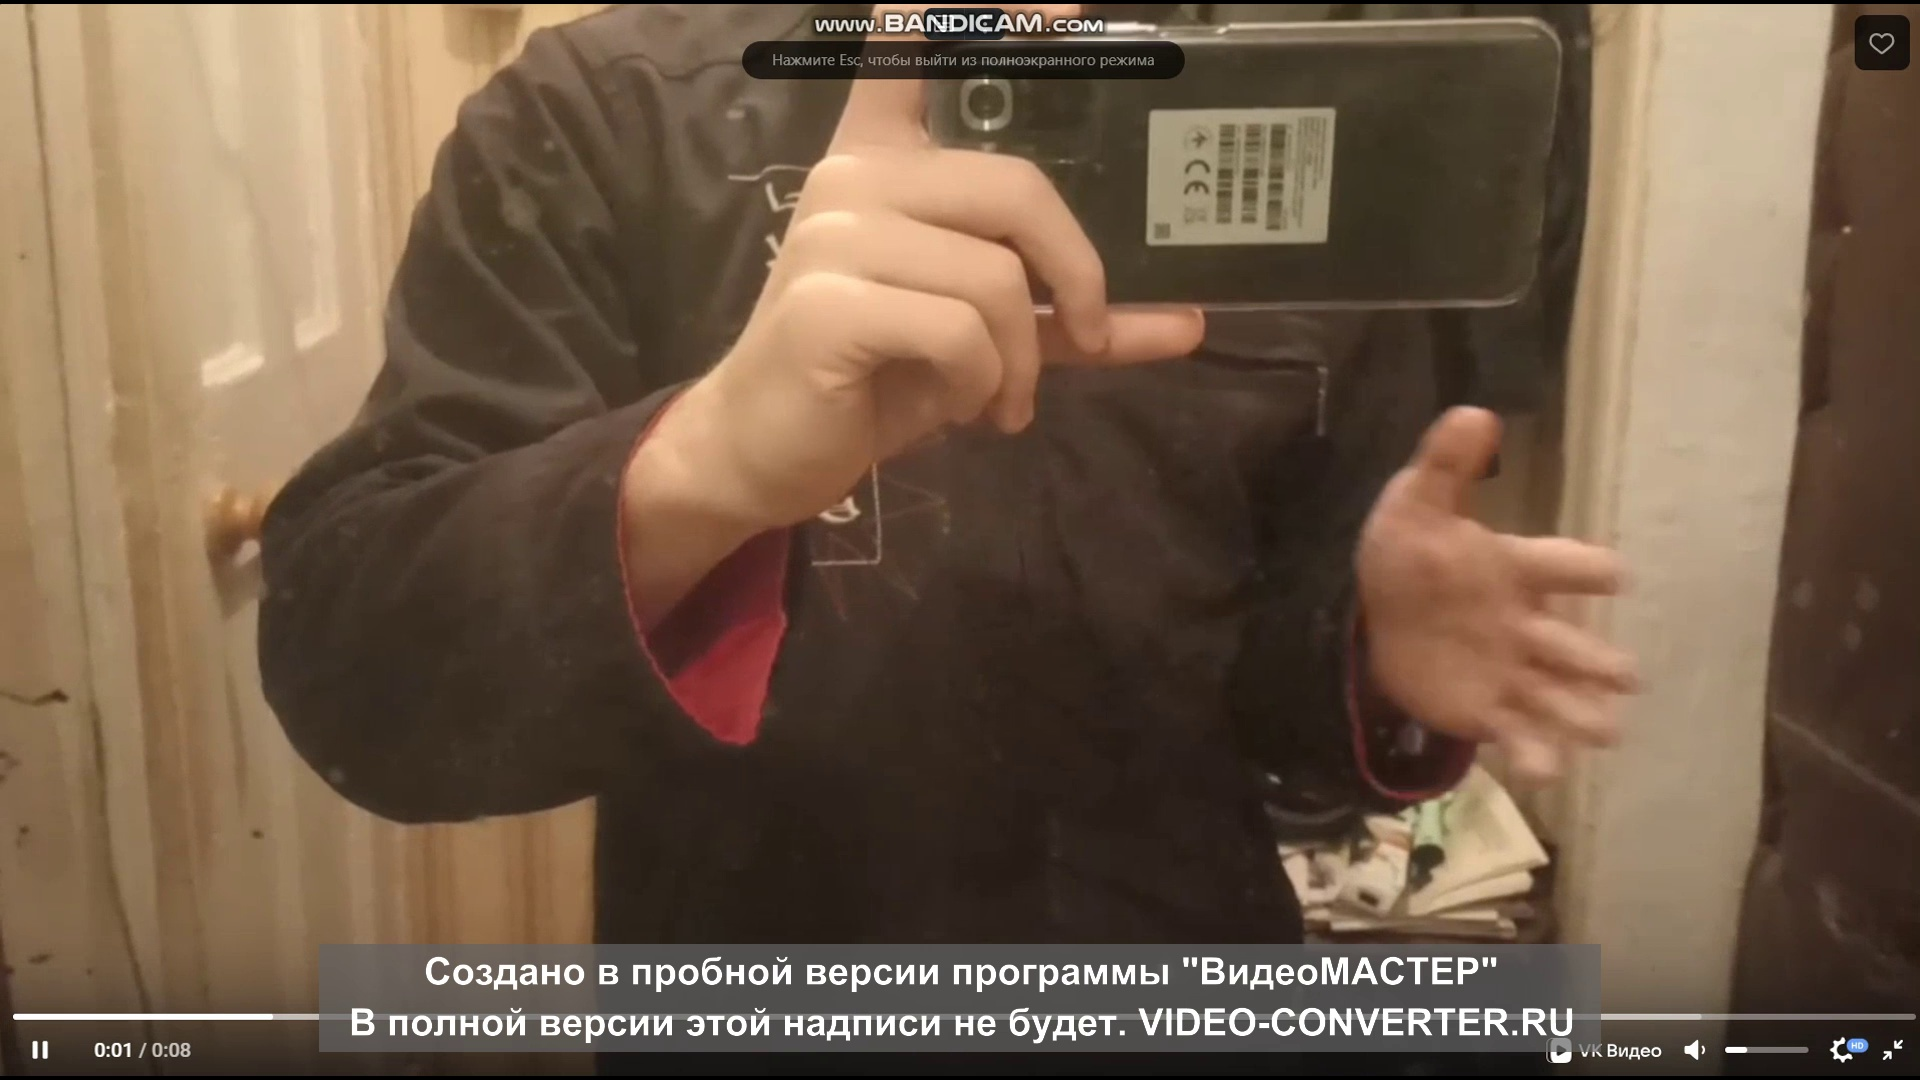Ладонь: (1360, 407, 1646, 775)
